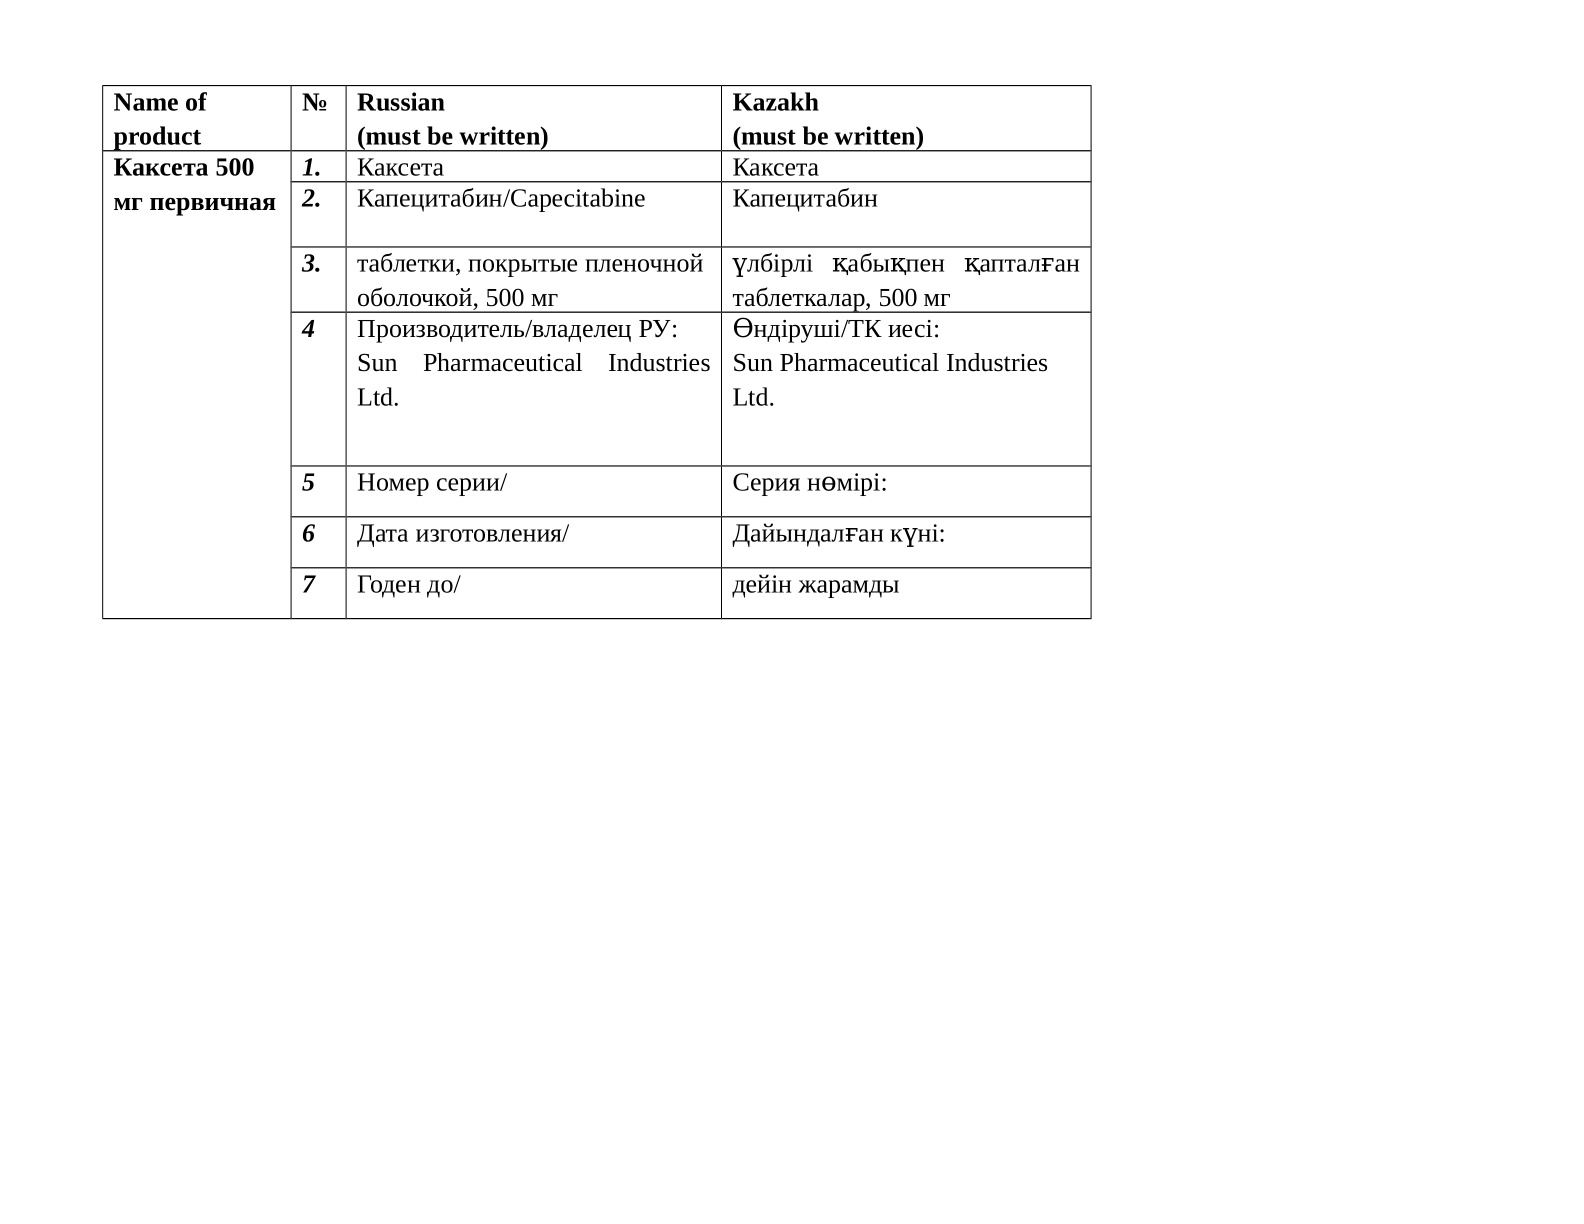merged_cells: (99, 82, 1094, 621)
